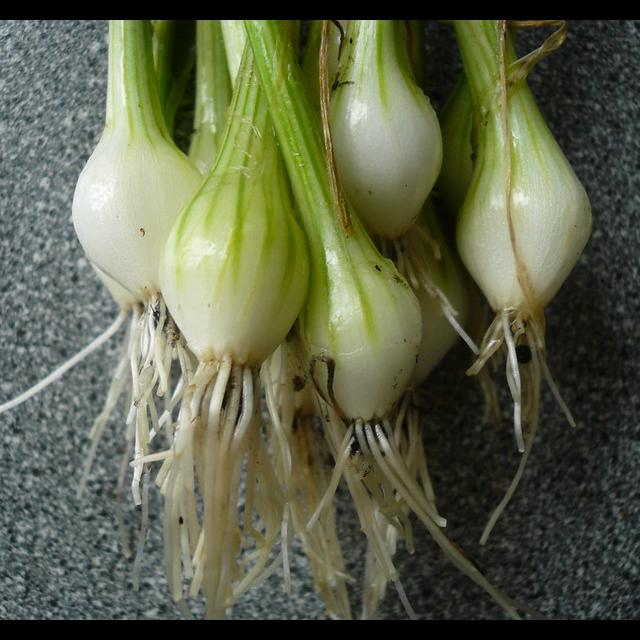green_onion: (246, 20, 517, 618), (159, 45, 309, 618), (455, 20, 593, 544), (72, 20, 202, 504)
